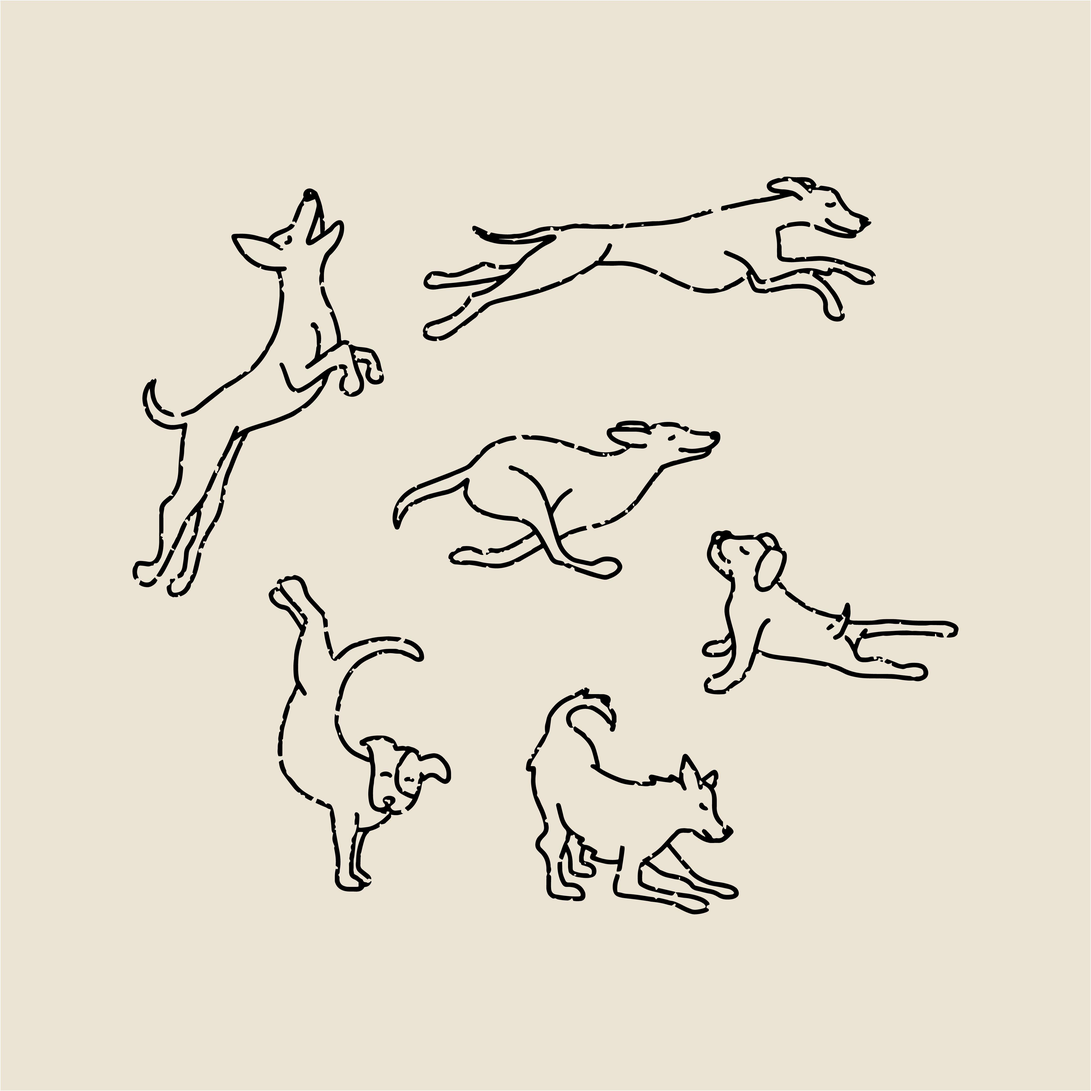adult_dog: (125, 181, 387, 596), (423, 176, 878, 340), (264, 572, 453, 895), (392, 419, 724, 580), (523, 685, 744, 919)
puppy-dog: (703, 528, 963, 697)
